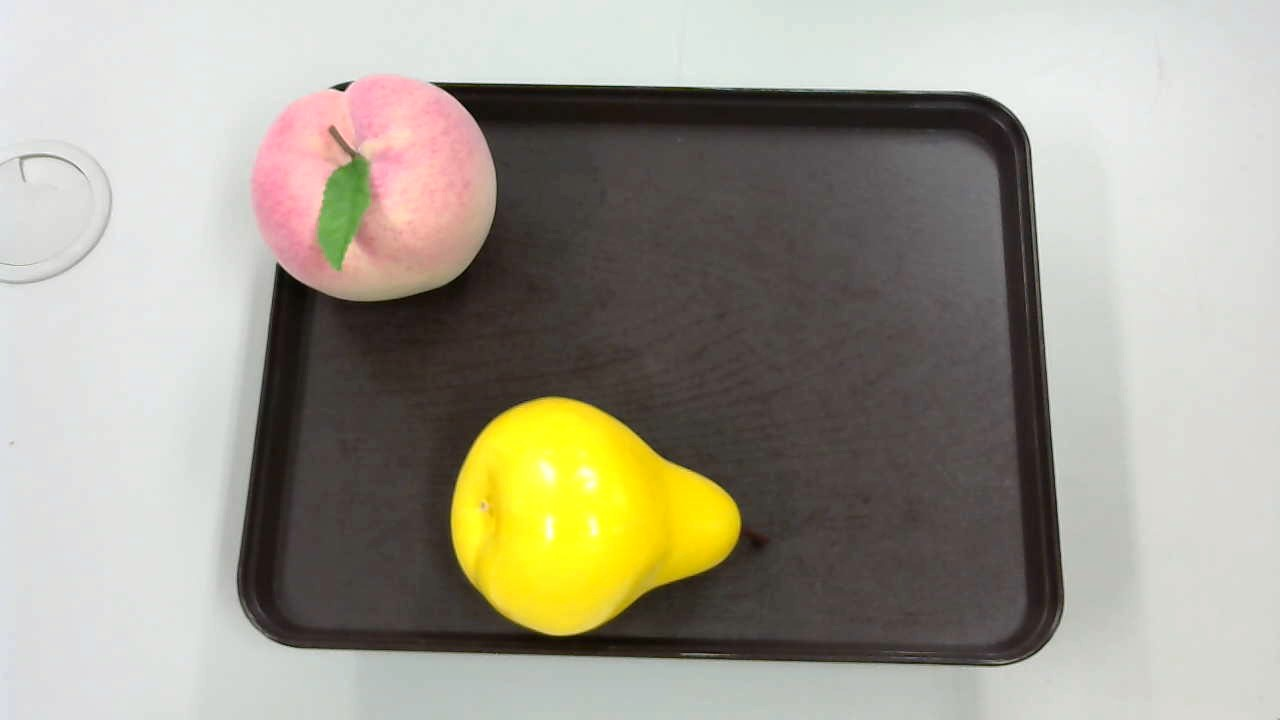peach: (245, 74, 496, 313)
yellow pear: (445, 393, 770, 639)
